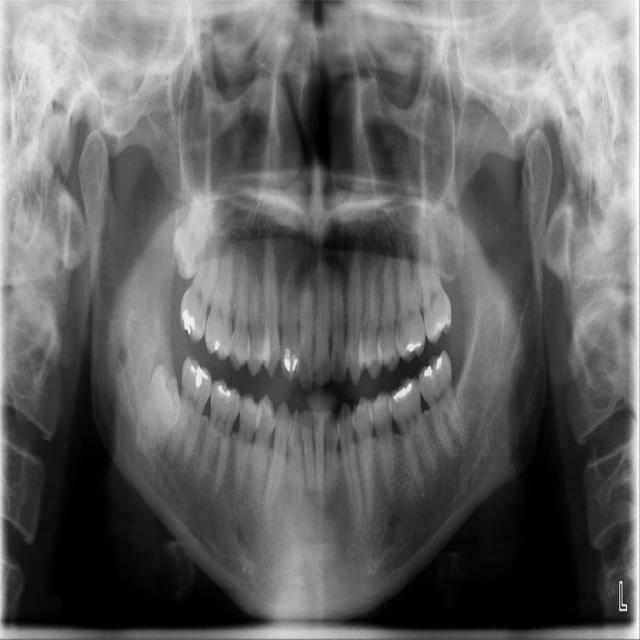Filling: (280, 342, 301, 383), (418, 354, 448, 382), (391, 379, 418, 404), (188, 363, 210, 388), (180, 309, 198, 335), (403, 338, 423, 357), (432, 318, 450, 338), (216, 383, 234, 401), (213, 336, 223, 351)
impacted tooth: (138, 362, 181, 458), (176, 198, 211, 273)
